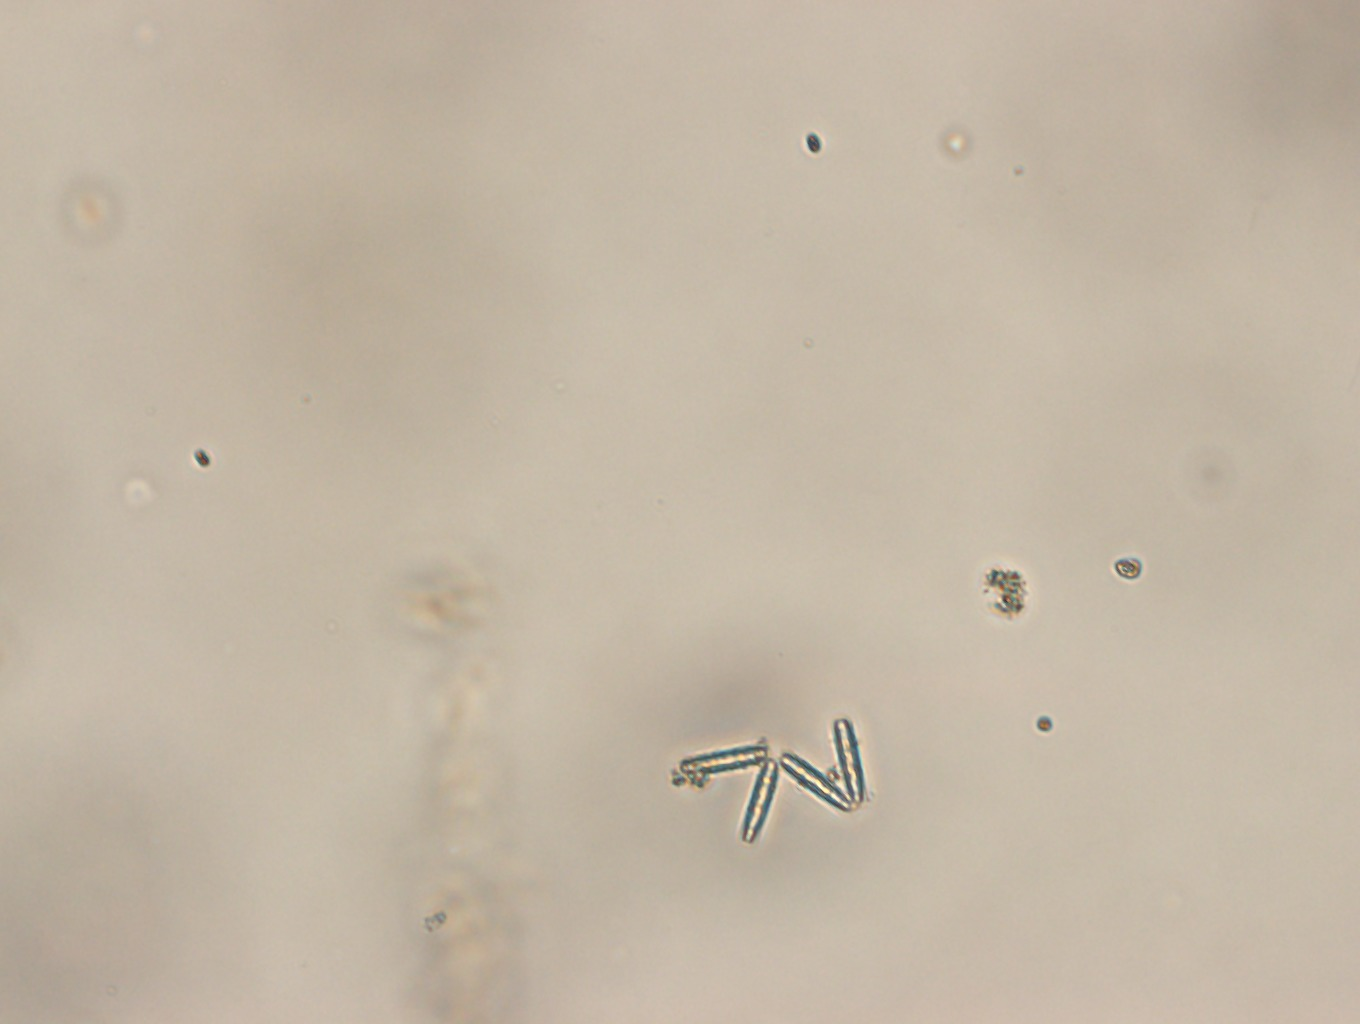thalassionema nitzschioides: (677, 715, 867, 842)
